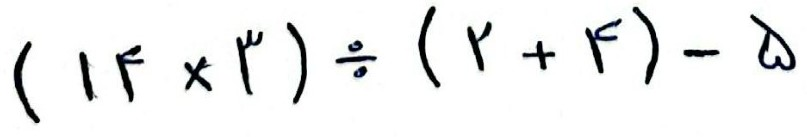character: (750, 13, 798, 70), (13, 40, 42, 123), (585, 17, 627, 74), (632, 5, 660, 85), (416, 6, 442, 88), (235, 30, 265, 98), (286, 22, 310, 104), (116, 44, 148, 105), (335, 40, 378, 78), (466, 22, 491, 71), (183, 57, 214, 92), (523, 41, 557, 71), (78, 53, 97, 103), (684, 49, 734, 67)
